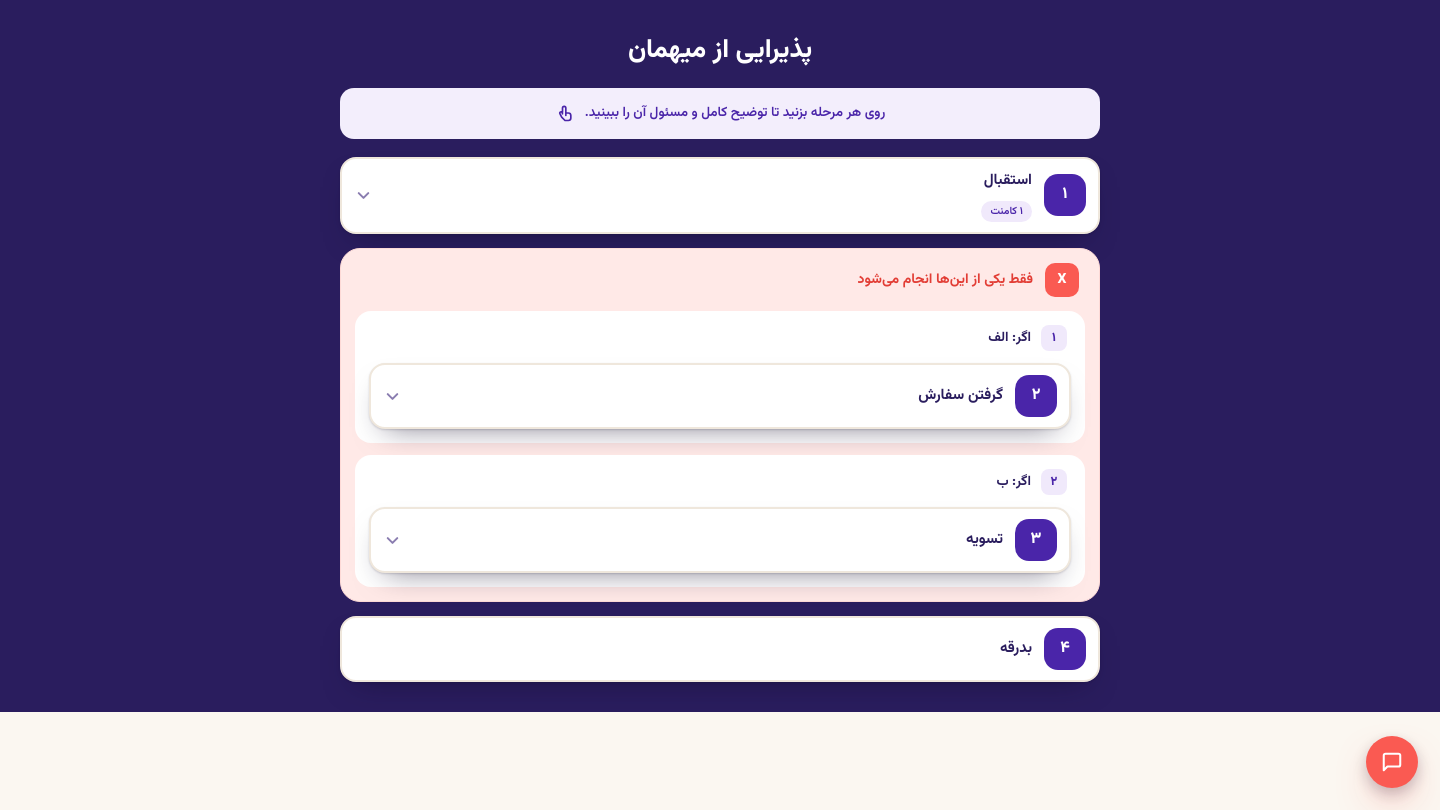
Test: Steps — comments on a step › keeps the floating button, which opens the process drawer (the design's steps view has both)
Click the button named "کامنت‌های این صفحه" at (1392, 762), box [1366, 736, 1418, 788]
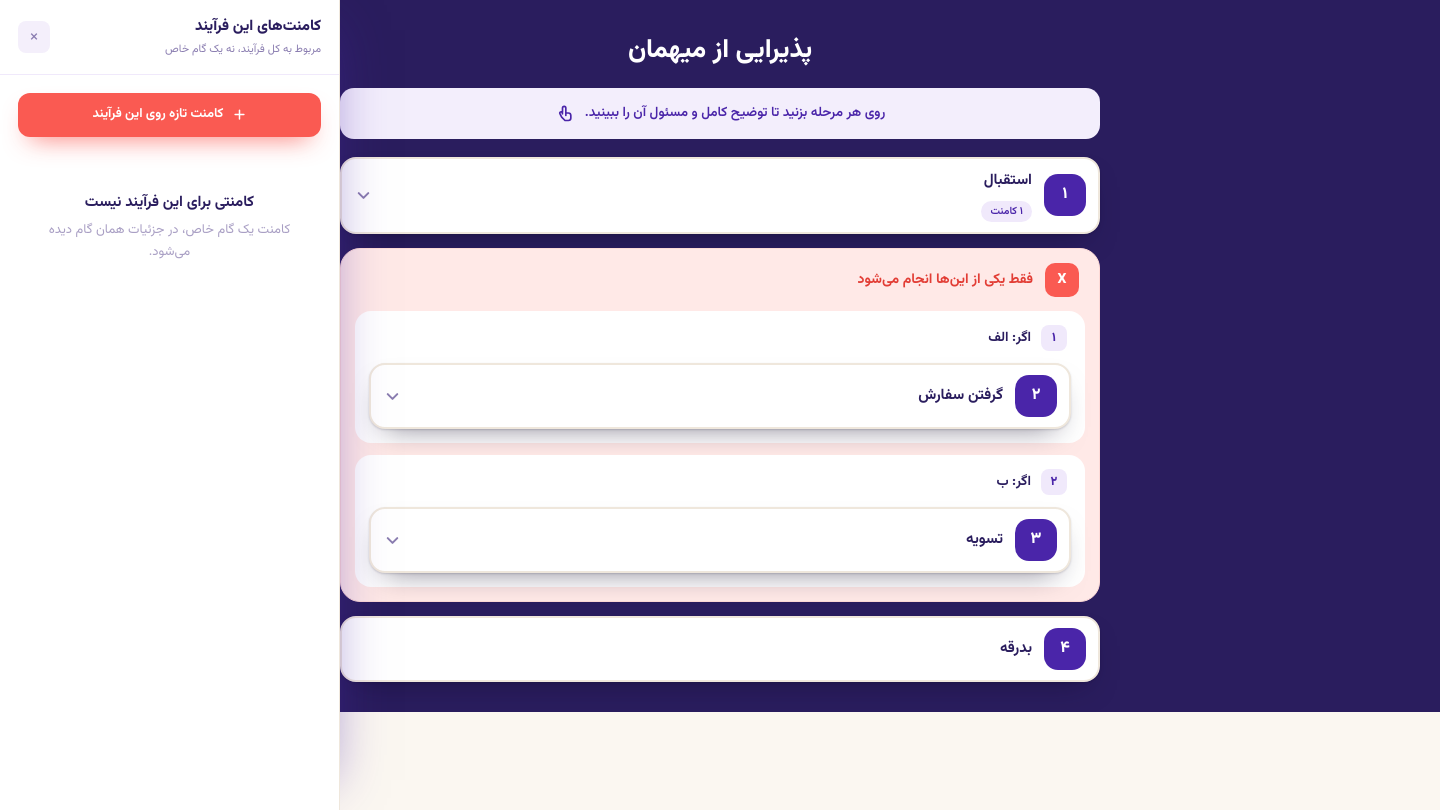
Result: the dialog "کامنت‌های این فرآیند" is shown at [0, 0, 340, 809]
